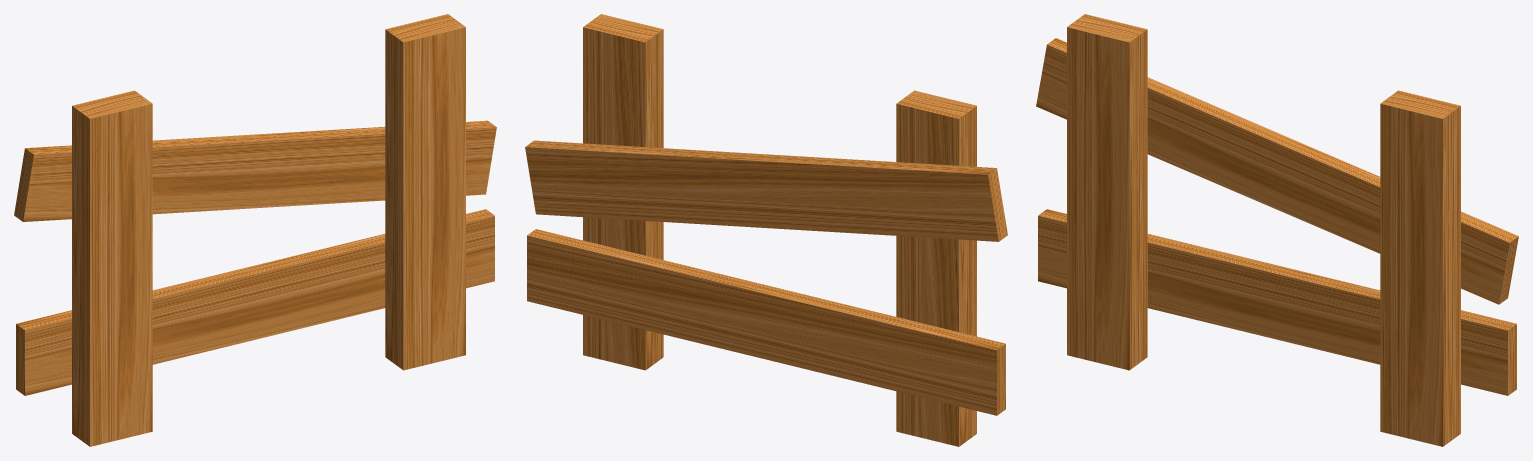
Rendered from hekjeSchuin.obj.
3 renders of one model, left to right at view 1: azimuth 30°, elevation 25°; view 2: azimuth 150°, elevation 25°; view 3: azimuth 330°, elevation 25°, orthographic.
Visible parts, largest first — view 1: Cube_Cube.001, Cube.001_Cube.002, Cube.002_Cube.003, Cube.003_Cube.004; view 2: Cube.002_Cube.003, Cube.003_Cube.004, Cube_Cube.001, Cube.001_Cube.002; view 3: Cube.001_Cube.002, Cube_Cube.001, Cube.003_Cube.004, Cube.002_Cube.003.
Part boxes in pixels (<box>): Cube_Cube.001: <box>72,90,152,446</box>; Cube.001_Cube.002: <box>385,14,465,370</box>; Cube.002_Cube.003: <box>16,209,494,395</box>; Cube.003_Cube.004: <box>14,120,496,221</box>; Cube.002_Cube.003: <box>527,229,1005,415</box>; Cube.003_Cube.004: <box>525,140,1007,241</box>; Cube_Cube.001: <box>896,90,976,446</box>; Cube.001_Cube.002: <box>583,14,663,370</box>; Cube.001_Cube.002: <box>1380,90,1460,446</box>; Cube_Cube.001: <box>1067,14,1147,370</box>; Cube.003_Cube.004: <box>1036,38,1518,304</box>; Cube.002_Cube.003: <box>1038,209,1516,395</box>.
Bounding box in the file's own units: 1.51 × 1 × 0.15.
1 material, 1 textured.
